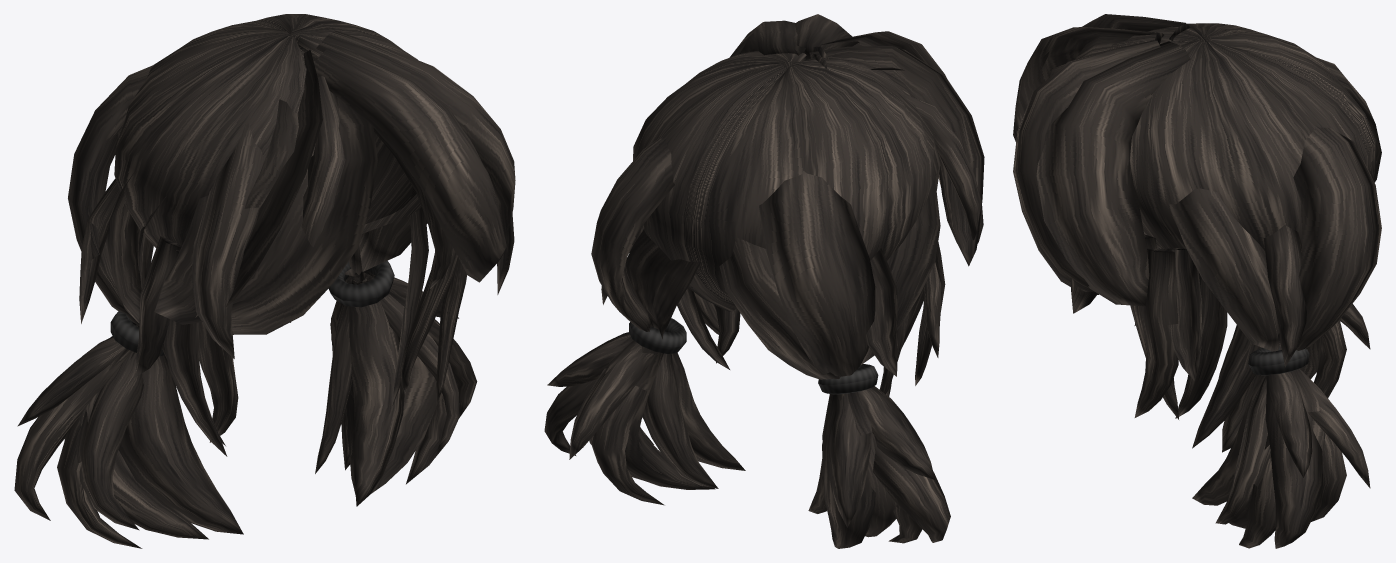
The model's file is ps2_twintail_hair.glb.
The picture shows the model from 3 angles, left to right: view 1: azimuth 30°, elevation 25°; view 2: azimuth 150°, elevation 25°; view 3: azimuth 270°, elevation 25°; orthographic projection. The views are drawn at different scales.
Parts seen in each view (by area): view 1: PS2_TwinTail_Hair; view 2: PS2_TwinTail_Hair; view 3: PS2_TwinTail_Hair.
Part boxes in pixels (x1,y1,x2,y2): PS2_TwinTail_Hair: (14,14,515,548); PS2_TwinTail_Hair: (544,14,984,548); PS2_TwinTail_Hair: (1013,14,1381,548).
Bounding box in the file's own units: 0.8542 × 0.8927 × 0.6616.
Materials: 1 (1 with a texture image).
